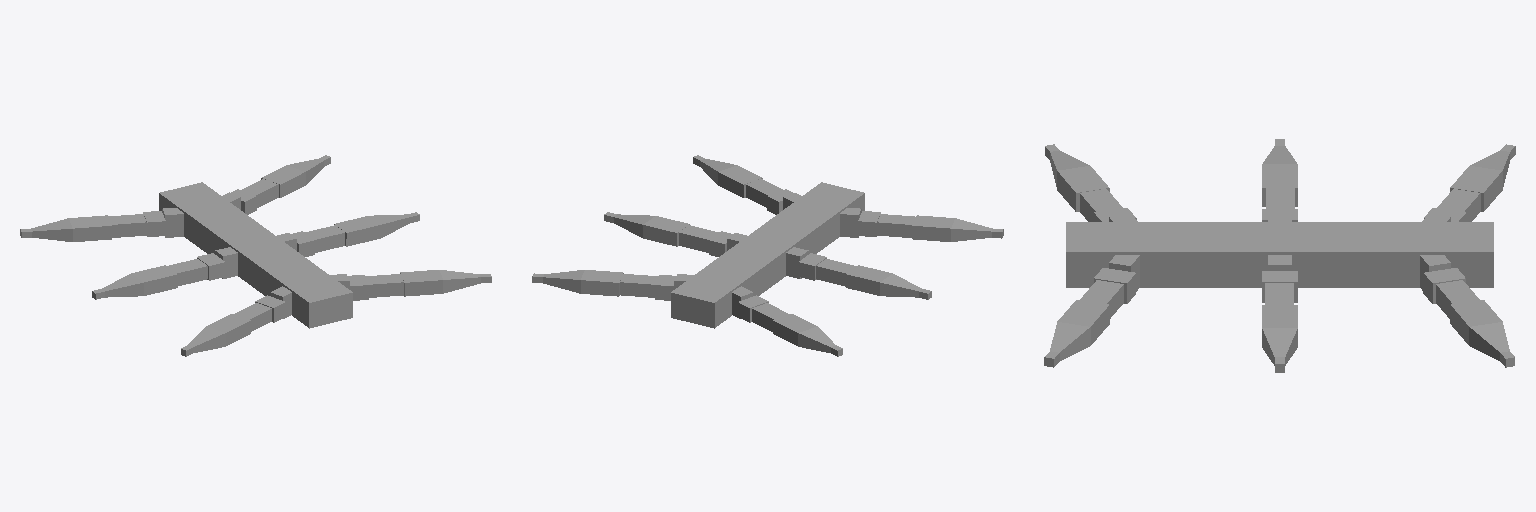
URDF robot description (hexapod):
<?xml version="1.0"?>
<robot name="hexapod">

<link name="base_link"/>
<joint name="base_link_to_hexapod_joint" type="fixed">
	<parent link="base_link"/>
	<child link="hexapod_link"/>
</joint>
	<link name="hexapod_link">
 		<visual>
			<geometry>
				<mesh filename="package://akrobat/stl/low_poly/hexapod_link.stl"/>
			</geometry>
			<origin rpy="0 0 0" xyz="0 0 0"/>
			<material name="grey">
				<color rgba="0.67 0.67 0.67 1"/>
			</material>
		</visual>

	</link>
<!-- links-->
<!--.....................leg 1......................-->
	<link name="1_coxa_link">
 		<visual>
			<geometry>
				<mesh filename="package://akrobat/stl/low_poly/coxa_l_link.stl"/>
			</geometry>
			<origin rpy="0 0 0" xyz="0 0 0"/>
			<material name="grey">
				<color rgba="0.67 0.67 0.67 1"/>
			</material>
		</visual>
	</link>
	<joint name="m11" type="revolute">
		<parent link="hexapod_link"/>
		<child link="1_coxa_link"/>
		<origin xyz="-0.051 0.217 0.0" rpy="0 0 2.791"/>
		<axis xyz="0 0 1"/>
		<limit effort="1000.0" lower="-0.548" upper="0.548" velocity="0.5"/>
	</joint>
	<link name="1_femur_link">
 		<visual>
			<geometry>
				<mesh filename="package://akrobat/stl/low_poly/femur_link.stl"/>
			</geometry>
			<origin rpy="0 0 0" xyz="0 0 0"/>
			<material name="grey">
				<color rgba="0.67 0.67 0.67 1"/>
			</material>
		</visual>
	</link>
	<joint name="m12" type="revolute">
		<parent link="1_coxa_link"/>
		<child link="1_femur_link"/>
		<origin xyz="0.07 0.0 0.0" rpy="3.14 0 0"/>
		<axis xyz="0 1 0"/>
		<limit effort="1000.0" lower="-1.57" upper="1.57" velocity="0.5"/>
	</joint>
	<link name="1_tibia_link">
 		<visual>
			<geometry>
				<mesh filename="package://akrobat/stl/low_poly/tibia_link.stl"/>
			</geometry>
			<origin rpy="0 0 0" xyz="0 0 0"/>
			<material name="grey">
				<color rgba="0.67 0.67 0.67 1"/>
			</material>
		</visual>
	</link>
	<joint name="m13" type="revolute">
		<parent link="1_femur_link"/>
		<child link="1_tibia_link"/>
		<origin xyz="0.096 0.0 0.0" rpy="0 -1.57 0"/>
		<axis xyz="0 1 0"/>
		<limit effort="1000.0" lower="-1.57" upper="1.57" velocity="0.5"/>
	</joint>
<!-- rechts-->
<!--..................leg 2...................-->
	<link name="2_coxa_link">
 		<visual>
			<geometry>
				<mesh filename="package://akrobat/stl/low_poly/coxa_r_link.stl"/>
			</geometry>
			<origin rpy="0 0 0" xyz="0 0 0"/>
			<material name="grey">
				<color rgba="0.67 0.67 0.67 1"/>
			</material>
		</visual>
	</link>
	<joint name="m21" type="revolute">
		<parent link="hexapod_link"/>
		<child link="2_coxa_link"/>
		<origin xyz="0.051 0.217 0.0" rpy="0 0 3.489"/>
		<axis xyz="0 0 1"/>
		<limit effort="1000.0" lower="-0.548" upper="0.548" velocity="0.5"/>
	</joint>
 	<link name="2_femur_link">
 		<visual>
			<geometry>
				<mesh filename="package://akrobat/stl/low_poly/femur_link.stl"/>
			</geometry>
			<origin rpy="0 0 0" xyz="0 0 0"/>
			<material name="grey">
				<color rgba="0.67 0.67 0.67 1"/>
			</material>
		</visual>
	</link>
	<joint name="m22" type="revolute">
		<parent link="2_coxa_link"/>
		<child link="2_femur_link"/>
		<origin xyz="-0.07 0.0 0.0" rpy="0 3.14 0"/>
		<axis xyz="0 1 0"/>
		<limit effort="1000.0" lower="-1.57" upper="1.57" velocity="0.5"/>
	</joint>
	<link name="2_tibia_link">
 		<visual>
			<geometry>
				<mesh filename="package://akrobat/stl/low_poly/tibia_link.stl"/>
			</geometry>
			<origin rpy="0 0 0" xyz="0 0 0"/>
			<material name="grey">
				<color rgba="0.67 0.67 0.67 1"/>
			</material>
		</visual>
	</link>
	<joint name="m23" type="revolute">
		<parent link="2_femur_link"/>
		<child link="2_tibia_link"/>
		<origin xyz="0.096 0.0 0.0" rpy="0 -1.57 0"/>
		<axis xyz="0 1 0"/>
		<limit effort="1000.0" lower="-1.57" upper="1.57" velocity="0.5"/>
	</joint>
<!-- links-->
<!--.................. leg 3.......................-->
	<link name="3_coxa_link">
 		<visual>
			<geometry>
				<mesh filename="package://akrobat/stl/low_poly/coxa_l_link.stl"/>
			</geometry>
			<origin rpy="0 0 0" xyz="0 0 0"/>
			<material name="grey">
				<color rgba="0.67 0.67 0.67 1"/>
			</material>
		</visual>
	</link>
	<joint name="m31" type="revolute">
		<parent link="hexapod_link"/>
		<child link="3_coxa_link"/>
		<origin xyz="-0.051 0.0 0.0" rpy="0 0 3.14"/>
		<axis xyz="0 0 1"/>
		<limit effort="1000.0" lower="-0.548" upper="0.548" velocity="0.5"/>
	</joint>
	<link name="3_femur_link">
 		<visual>
			<geometry>
				<mesh filename="package://akrobat/stl/low_poly/femur_link.stl"/>
			</geometry>
			<origin rpy="0 0 0" xyz="0 0 0"/>
			<material name="grey">
				<color rgba="0.67 0.67 0.67 1"/>
			</material>
		</visual>
	</link>
	<joint name="m32" type="revolute">
		<parent link="3_coxa_link"/>
		<child link="3_femur_link"/>
		<origin xyz="0.07 0.0 0.0" rpy="3.14 0 0"/>
		<axis xyz="0 1 0"/>
		<limit effort="1000.0" lower="-1.57" upper="1.57" velocity="0.5"/>
	</joint>
	<link name="3_tibia_link">
 		<visual>
			<geometry>
				<mesh filename="package://akrobat/stl/low_poly/tibia_link.stl"/>
			</geometry>
			<origin rpy="0 0 0" xyz="0 0 0"/>
			<material name="grey">
				<color rgba="0.67 0.67 0.67 1"/>
			</material>
		</visual>
	</link>
	<joint name="m33" type="revolute">
		<parent link="3_femur_link"/>
		<child link="3_tibia_link"/>
		<origin xyz="0.096 0.0 0.0" rpy="0 -1.57 0"/>
		<axis xyz="0 1 0"/>
		<limit effort="1000.0" lower="-1.57" upper="1.57" velocity="0.5"/>
	</joint>
<!-- rechts-->
<!--..................leg 4...................-->
	<link name="4_coxa_link">
 		<visual>
			<geometry>
				<mesh filename="package://akrobat/stl/low_poly/coxa_r_link.stl"/>
			</geometry>
			<origin rpy="0 0 0" xyz="0 0 0"/>
			<material name="grey">
				<color rgba="0.67 0.67 0.67 1"/>
			</material>
		</visual>
	</link>
	<joint name="m41" type="revolute">
		<parent link="hexapod_link"/>
		<child link="4_coxa_link"/>
		<origin xyz="0.051 0.0 0.0" rpy="0 0 3.14"/>
		<axis xyz="0 0 1"/>
		<limit effort="1000.0" lower="-0.548" upper="0.548" velocity="0.5"/>
	</joint>
	<link name="4_femur_link">
 		<visual>
			<geometry>
				<mesh filename="package://akrobat/stl/low_poly/femur_link.stl"/>
			</geometry>
			<origin rpy="0 0 0" xyz="0 0 0"/>
			<material name="grey">
				<color rgba="0.67 0.67 0.67 1"/>
			</material>
		</visual>
	</link>
	<joint name="m42" type="revolute">
		<parent link="4_coxa_link"/>
		<child link="4_femur_link"/>
		<origin xyz="-0.07 0.0 0.0" rpy="0 3.14 0"/>
		<axis xyz="0 1 0"/>
		<limit effort="1000.0" lower="-1.57" upper="1.57" velocity="0.5"/>
	</joint>
	<link name="4_tibia_link">
 		<visual>
			<geometry>
				<mesh filename="package://akrobat/stl/low_poly/tibia_link.stl"/>
			</geometry>
			<origin rpy="0 0 0" xyz="0 0 0"/>
			<material name="grey">
				<color rgba="0.67 0.67 0.67 1"/>
			</material>
		</visual>
	</link>
	<joint name="m43" type="revolute">
		<parent link="4_femur_link"/>
		<child link="4_tibia_link"/>
		<origin xyz="0.096 0.0 0.0" rpy="0 -1.57 0"/>
		<axis xyz="0 1 0"/>
		<limit effort="1000.0" lower="-1.57" upper="1.57" velocity="0.5"/>
	</joint>
<!-- links-->
<!--..................leg 5...................-->
	<link name="5_coxa_link">
 		<visual>
			<geometry>
				<mesh filename="package://akrobat/stl/low_poly/coxa_l_link.stl"/>
			</geometry>
			<origin rpy="0 0 0" xyz="0 0 0"/>
			<material name="grey">
				<color rgba="0.67 0.67 0.67 1"/>
			</material>
		</visual>
	</link>
	<joint name="m51" type="revolute">
		<parent link="hexapod_link"/>
		<child link="5_coxa_link"/>
		<origin xyz="-0.051 -0.217 0.0" rpy="0 0 3.489"/>
		<axis xyz="0 0 1"/>
		<limit effort="1000.0" lower="-0.548" upper="0.548" velocity="0.5"/>
	</joint>
	<link name="5_femur_link">
 		<visual>
			<geometry>
				<mesh filename="package://akrobat/stl/low_poly/femur_link.stl"/>
			</geometry>
			<origin rpy="0 0 0" xyz="0 0 0"/>
			<material name="grey">
				<color rgba="0.67 0.67 0.67 1"/>
			</material>
		</visual>
	</link>
	<joint name="m52" type="revolute">
		<parent link="5_coxa_link"/>
		<child link="5_femur_link"/>
		<origin xyz="0.07 0.0 0.0" rpy="3.14 0 0"/>
		<axis xyz="0 1 0"/>
		<limit effort="1000.0" lower="-1.57" upper="1.57" velocity="0.5"/>
	</joint>
	<link name="5_tibia_link">
 		<visual>
			<geometry>
				<mesh filename="package://akrobat/stl/low_poly/tibia_link.stl"/>
			</geometry>
			<origin rpy="0 0 0" xyz="0 0 0"/>
			<material name="grey">
				<color rgba="0.67 0.67 0.67 1"/>
			</material>
		</visual>
	</link>
	<joint name="m53" type="revolute">
		<parent link="5_femur_link"/>
		<child link="5_tibia_link"/>
		<origin xyz="0.096 0.0 0.0" rpy="0 -1.57 0"/>
		<axis xyz="0 1 0"/>
		<limit effort="1000.0" lower="-1.57" upper="1.57" velocity="0.5"/>
	</joint>

<!-- rechts-->
<!--..................leg 6...................-->
	<link name="6_coxa_link">
 		<visual>
			<geometry>
				<mesh filename="package://akrobat/stl/low_poly/coxa_r_link.stl"/>
			</geometry>
			<origin rpy="0 0 0" xyz="0 0 0"/>
			<material name="grey">
				<color rgba="0.67 0.67 0.67 1"/>
			</material>
		</visual>
	</link>
	<joint name="m61" type="revolute">
		<parent link="hexapod_link"/>
		<child link="6_coxa_link"/>
		<origin xyz="0.051 -0.217 0.0" rpy="0 0 2.791"/>
		<axis xyz="0 0 1"/>
		<limit effort="1000.0" lower="-0.548" upper="0.548" velocity="0.5"/>
	</joint>
	<link name="6_femur_link">
 		<visual>
			<geometry>
				<mesh filename="package://akrobat/stl/low_poly/femur_link.stl"/>
			</geometry>
			<origin rpy="0 0 0" xyz="0 0 0"/>
			<material name="grey">
				<color rgba="0.67 0.67 0.67 1"/>
			</material>
		</visual>
	</link>
	<joint name="m62" type="revolute">
		<parent link="6_coxa_link"/>
		<child link="6_femur_link"/>
		<origin xyz="-0.07 0.0 0.0" rpy="0 3.14 0"/>
		<axis xyz="0 1 0"/>
		<limit effort="1000.0" lower="-1.57" upper="1.57" velocity="0.5"/>
	</joint>
	<link name="6_tibia_link">
 		<visual>
			<geometry>
				<mesh filename="package://akrobat/stl/low_poly/tibia_link.stl"/>
			</geometry>
			<origin rpy="0 0 0" xyz="0 0 0"/>
			<material name="grey">
				<color rgba="0.67 0.67 0.67 1"/>
			</material>
		</visual>
	</link>
	<joint name="m63" type="revolute">
		<parent link="6_femur_link"/>
		<child link="6_tibia_link"/>
		<origin xyz="0.096 0.0 0.0" rpy="0 -1.57 0"/>
		<axis xyz="0 1 0"/>
		<limit effort="1000.0" lower="-1.57" upper="1.57" velocity="0.5"/>
	</joint>
</robot>

--- Facts derived from the render (not from the file) ---
3 views of the same robot in one strip: view 1: azimuth 30°, elevation 25°; view 2: azimuth 150°, elevation 25°; view 3: azimuth 270°, elevation 25° (orthographic).
Robot: hexapod — 20 links, 19 joints (18 revolute, 1 fixed); root link base_link; default pose: all joints at 0.
Visible links, largest first — view 1: hexapod_link, 1_tibia_link, 6_tibia_link, 3_tibia_link, 4_tibia_link, 5_tibia_link, 2_tibia_link, 1_coxa_link, 3_coxa_link, 1_femur_link, 6_femur_link, 5_coxa_link (+7 smaller); view 2: hexapod_link, 5_tibia_link, 2_tibia_link, 3_tibia_link, 4_tibia_link, 1_tibia_link, 6_tibia_link, 5_coxa_link, 3_coxa_link, 5_femur_link, 2_femur_link, 1_coxa_link (+7 smaller); view 3: hexapod_link, 6_tibia_link, 2_tibia_link, 4_tibia_link, 5_tibia_link, 1_tibia_link, 3_tibia_link, 2_coxa_link, 6_coxa_link, 4_coxa_link, 6_femur_link, 2_femur_link (+4 smaller).
Link boxes in pixels (x1,y1,x2,y2): hexapod_link: (159, 182, 352, 328); 1_tibia_link: (20, 215, 111, 241); 6_tibia_link: (400, 270, 491, 296); 3_tibia_link: (92, 265, 177, 299); 4_tibia_link: (334, 212, 419, 246); 5_tibia_link: (181, 314, 250, 356); 2_tibia_link: (261, 155, 330, 197); 1_coxa_link: (143, 208, 183, 237); 3_coxa_link: (197, 247, 237, 280); 1_femur_link: (108, 214, 146, 237); 6_femur_link: (366, 274, 403, 297); 5_coxa_link: (255, 286, 291, 322); hexapod_link: (671, 182, 864, 328); 5_tibia_link: (912, 215, 1003, 241); 2_tibia_link: (532, 270, 623, 296); 3_tibia_link: (846, 265, 931, 299); 4_tibia_link: (604, 212, 689, 246); 1_tibia_link: (773, 314, 842, 356); 6_tibia_link: (693, 155, 762, 197); 5_coxa_link: (840, 208, 880, 237); 3_coxa_link: (786, 247, 826, 280); 5_femur_link: (877, 214, 915, 237); 2_femur_link: (620, 274, 657, 297); 1_coxa_link: (732, 286, 768, 322); hexapod_link: (1066, 222, 1493, 287); 6_tibia_link: (1044, 300, 1109, 367); 2_tibia_link: (1450, 300, 1514, 367); 4_tibia_link: (1262, 305, 1297, 372); 5_tibia_link: (1045, 144, 1109, 211); 1_tibia_link: (1450, 144, 1515, 211); 3_tibia_link: (1262, 139, 1297, 206); 2_coxa_link: (1420, 255, 1465, 303); 6_coxa_link: (1094, 255, 1139, 303); 4_coxa_link: (1262, 255, 1297, 302); 6_femur_link: (1080, 280, 1123, 318); 2_femur_link: (1436, 280, 1479, 318).
Bounding box of the posed robot: 0.7587 × 0.6728 × 0.057 m (x, y, z).
Meshes: 5 distinct files referenced, 19 mesh visuals loaded (5 binary STL).